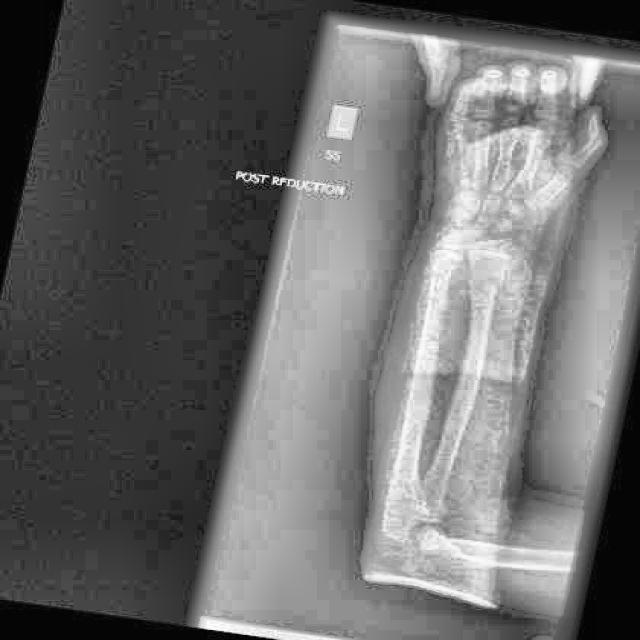forearm fracture: (451, 263, 531, 319)
